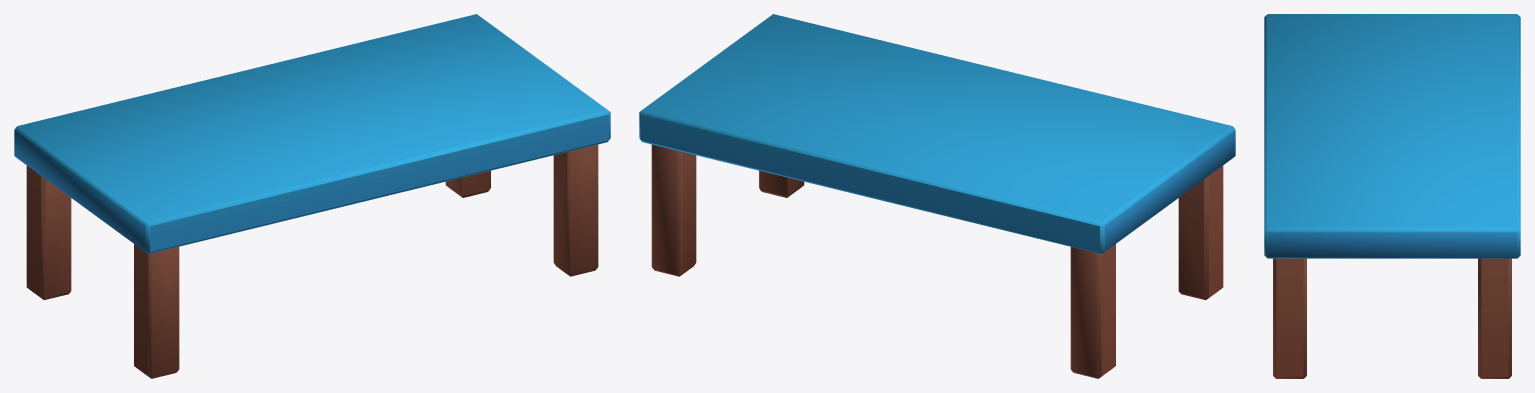
File: table-medium-long.glb
3 views of the same model, side by side, from view 1: azimuth 30°, elevation 25°; view 2: azimuth 150°, elevation 25°; view 3: azimuth 270°, elevation 25° (orthographic). The views are drawn at different scales.
Parts seen in each view (by area): view 1: table_medium_long; view 2: table_medium_long; view 3: table_medium_long.
Boxes of the visible parts, bbox=[...] form: table_medium_long: bbox=[14, 14, 610, 378]; table_medium_long: bbox=[639, 14, 1235, 378]; table_medium_long: bbox=[1264, 14, 1520, 378].
Size of the model in its own units: 3 by 1 by 1.5.
1 material, 1 textured.
